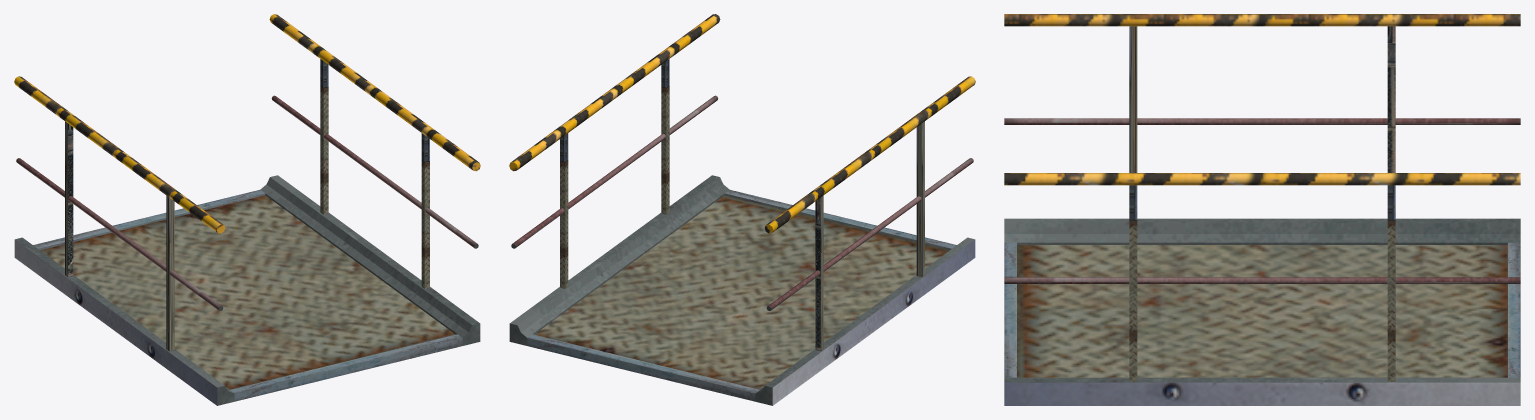
File: SM_BLD_METALCATWALK_06.fbx
3 renders of one model, left to right at view 1: azimuth 30°, elevation 25°; view 2: azimuth 150°, elevation 25°; view 3: azimuth 270°, elevation 25°, orthographic. The views are drawn at different scales.
Parts seen in each view (by area): view 1: SM_BLD_METALCATWALK_06; view 2: SM_BLD_METALCATWALK_06; view 3: SM_BLD_METALCATWALK_06.
Boxes of the visible parts, x1,y1,x2,y2 form: SM_BLD_METALCATWALK_06: (14,14,480,405); SM_BLD_METALCATWALK_06: (509,14,975,405); SM_BLD_METALCATWALK_06: (1004,14,1520,405).
Bounding box in the file's own units: 1.51 × 0.9833 × 2.
